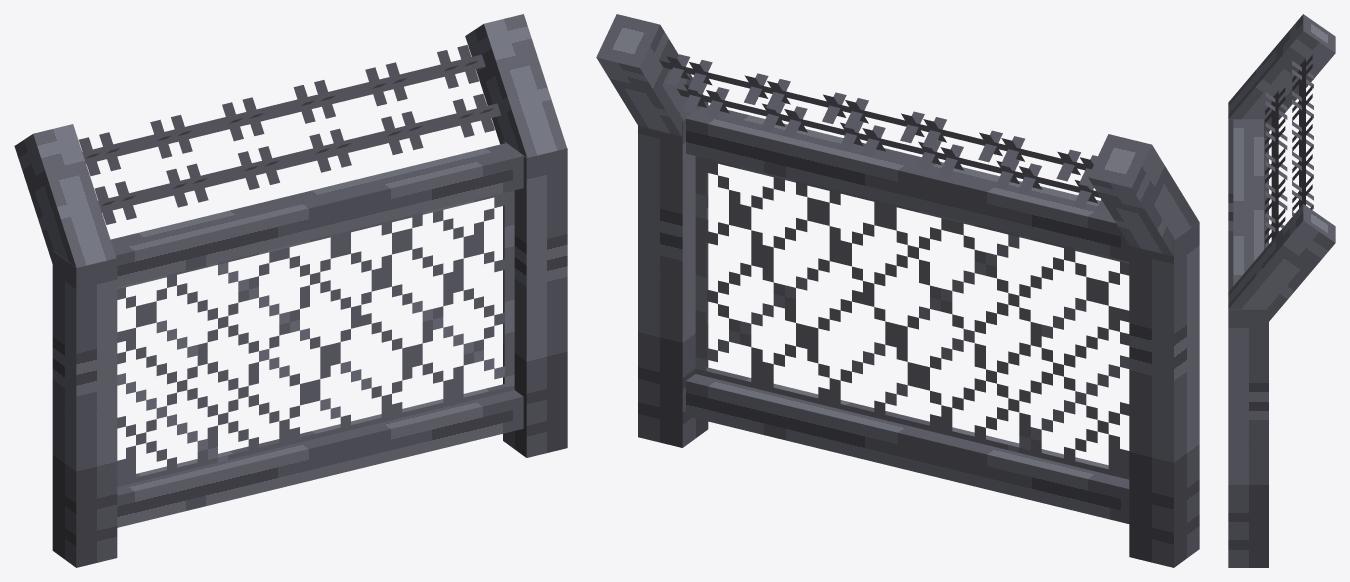
File: fence4.gltf
3 views of the same model, side by side, from view 1: azimuth 30°, elevation 25°; view 2: azimuth 150°, elevation 25°; view 3: azimuth 270°, elevation 25° (orthographic). The views are drawn at different scales.
Visible parts, largest first — view 1: cube (×8); view 2: cube (×10); view 3: cube (×8).
Part boxes in pixels (box(x1,y1,x2,y2)): cube (×8): box(14, 14, 567, 567); cube (×10): box(596, 14, 1199, 567); cube (×8): box(1228, 14, 1335, 567).
Size of the model in its own units: 5.61 by 4.39 by 1.23.
Materials: 1 (1 with a texture image).
